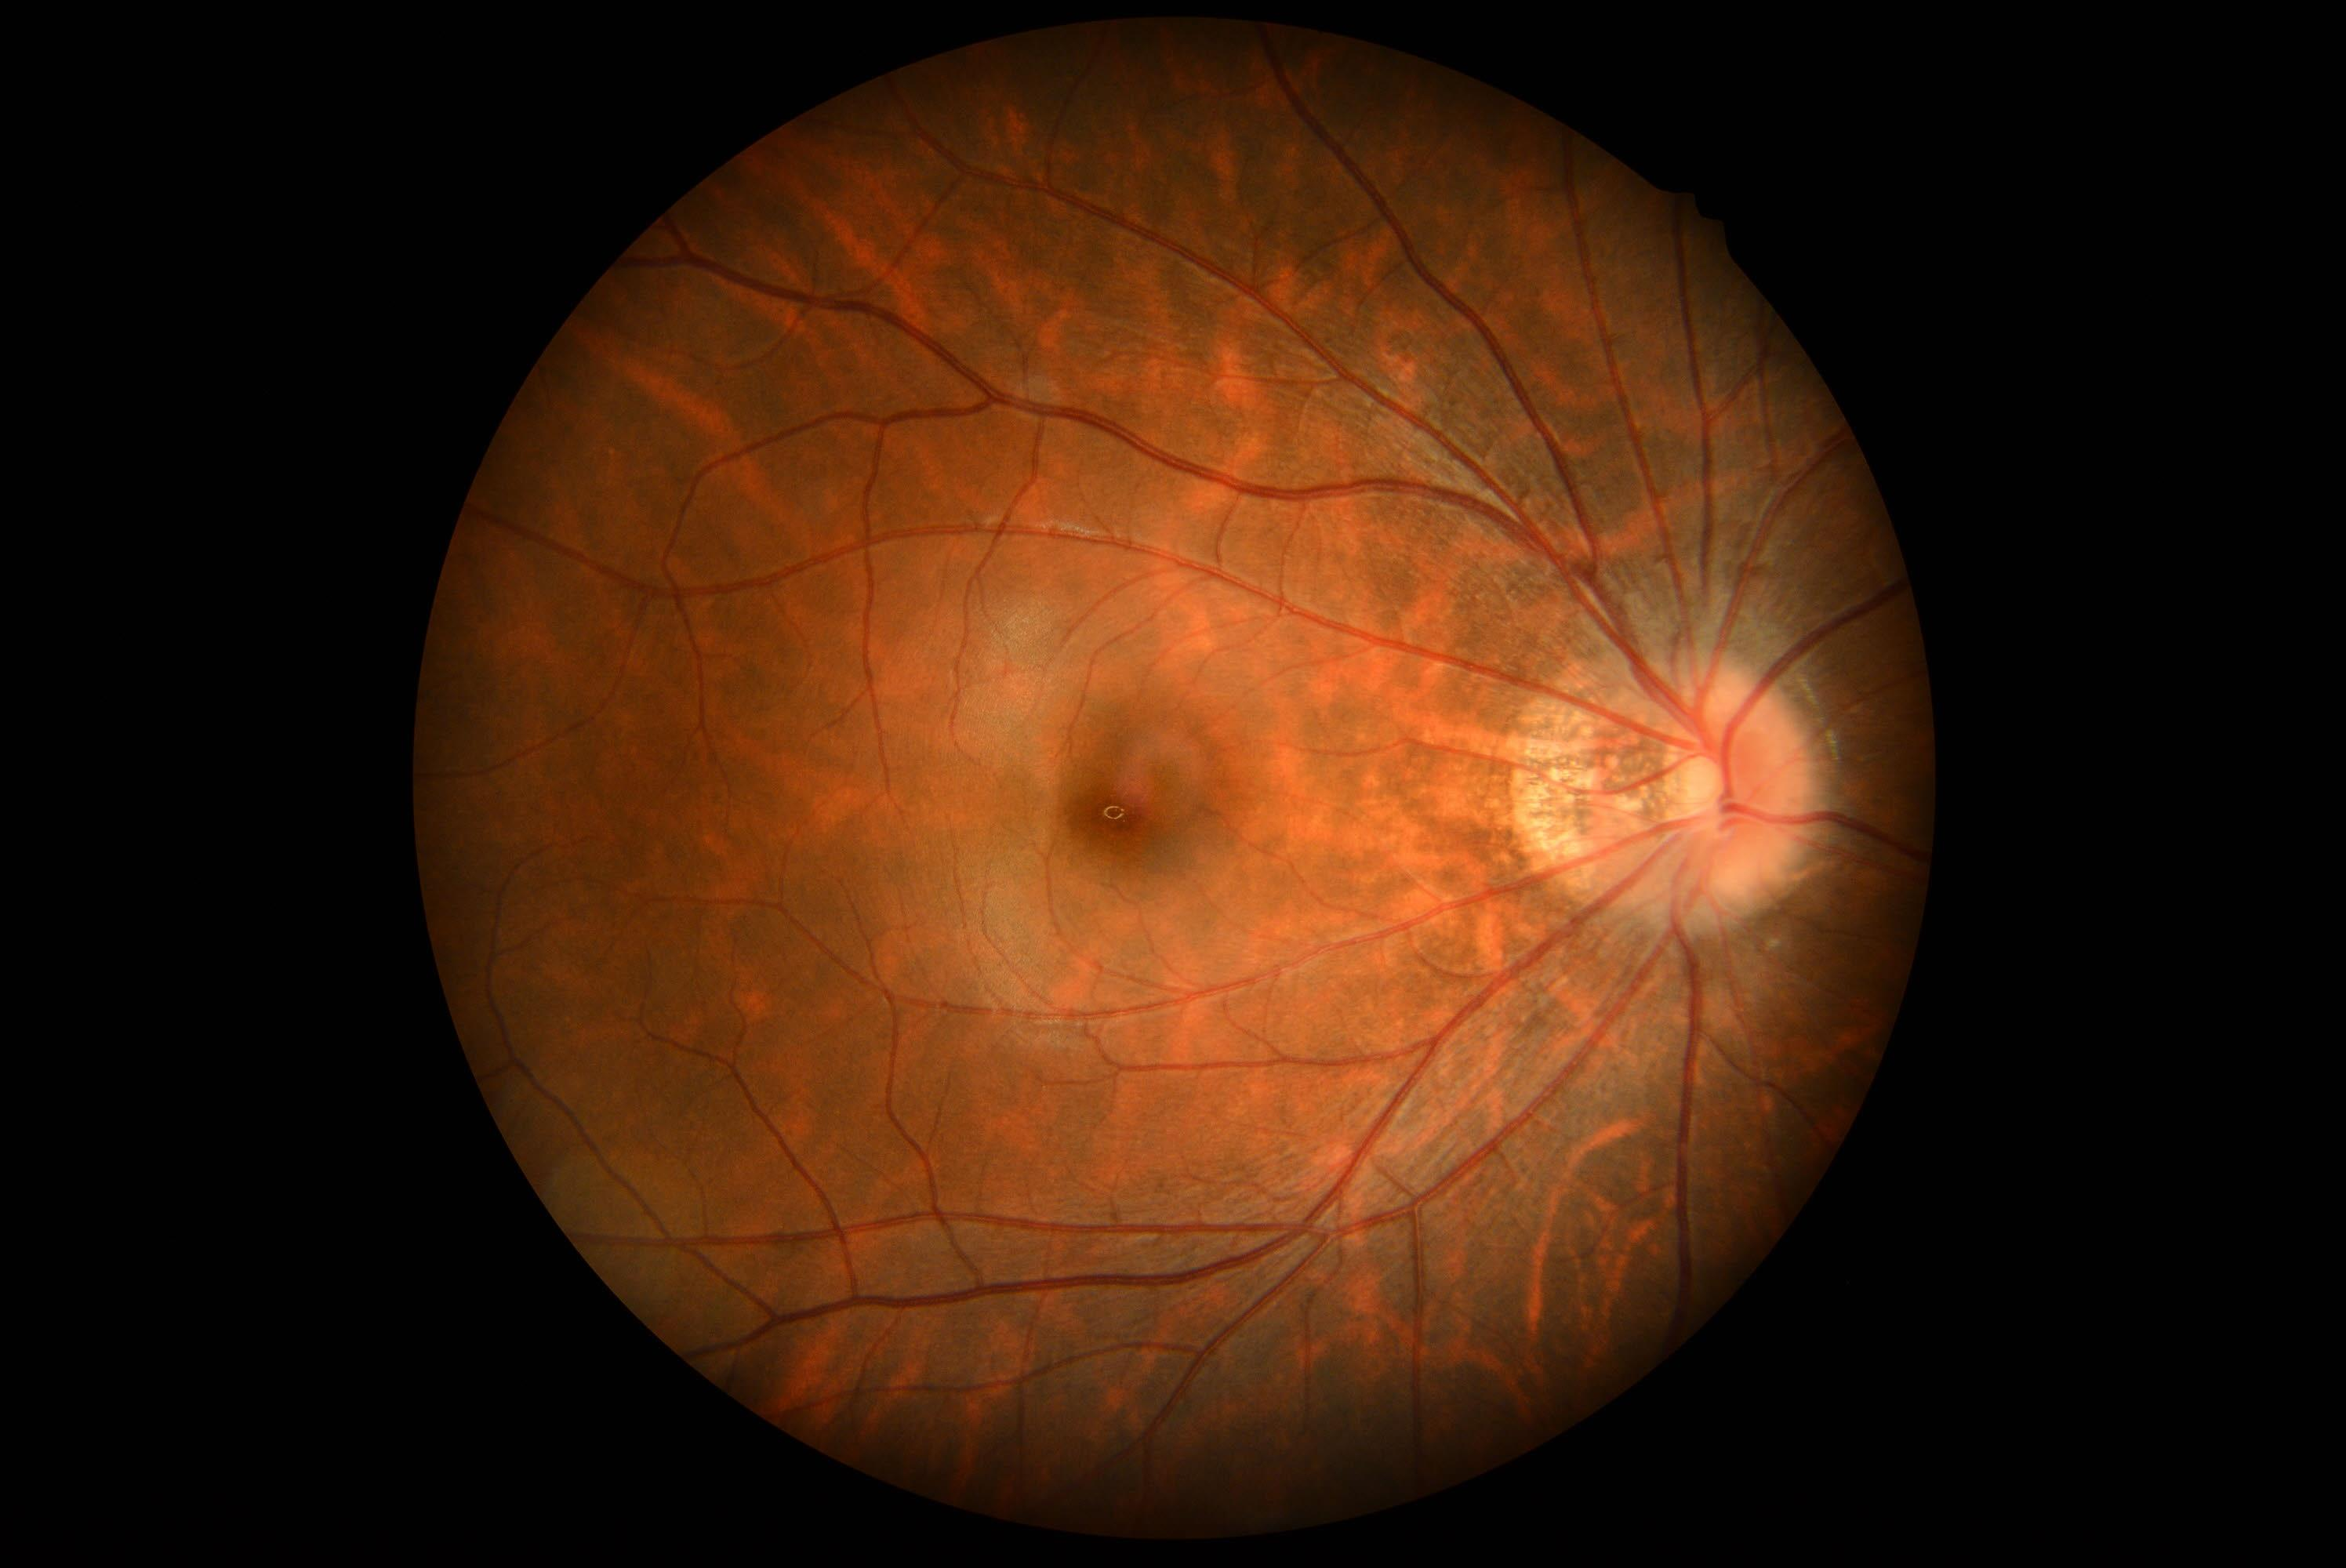Fovea: (1034, 733, 1190, 886)
